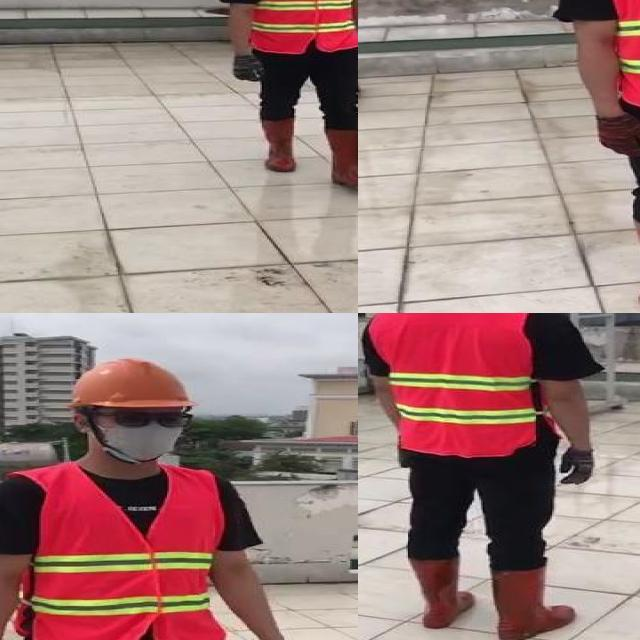boots: (486, 561, 576, 640), (407, 560, 473, 629), (257, 114, 301, 173), (326, 127, 358, 188)
face_mask: (88, 398, 196, 464)
glasses: (102, 402, 198, 434)
hand_glove: (554, 448, 598, 486), (230, 54, 264, 81)
head_helmet: (60, 354, 206, 414)
person: (0, 357, 311, 640), (358, 313, 600, 640), (541, 0, 640, 313), (217, 0, 358, 195)
vest: (12, 464, 225, 640), (369, 313, 545, 458), (246, 0, 358, 51)
